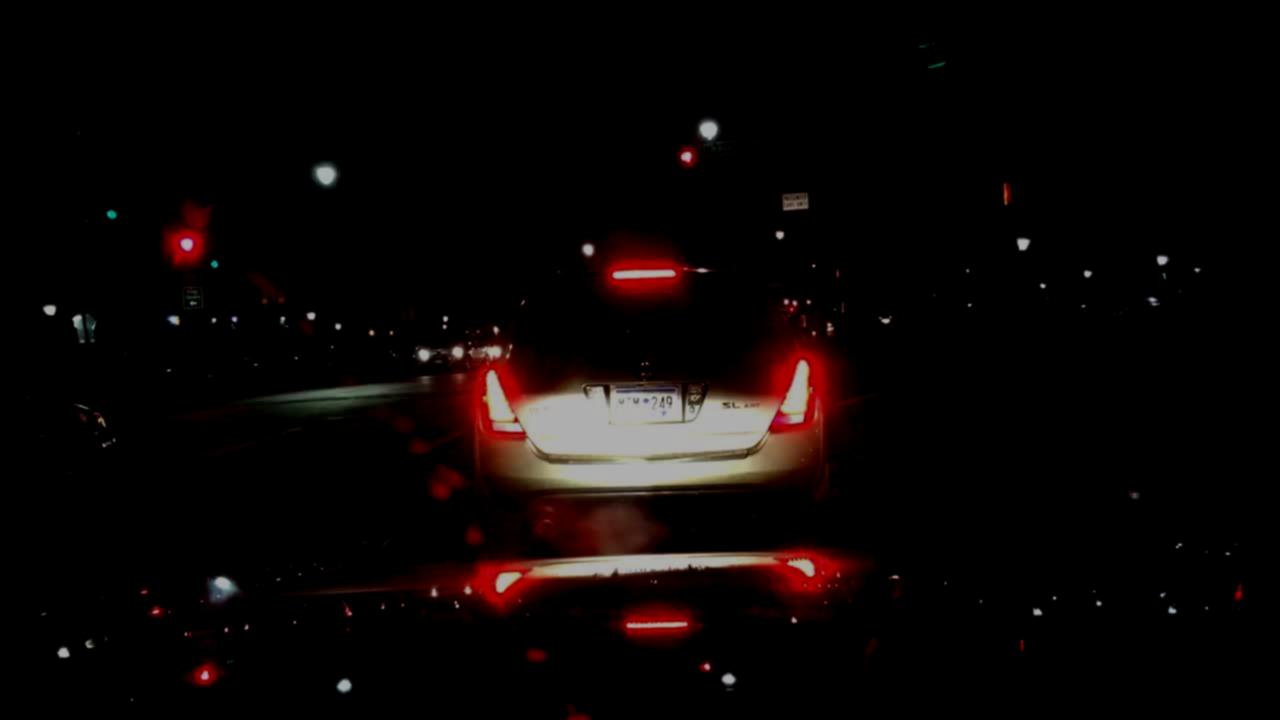Nissan: (627, 354, 660, 383)
